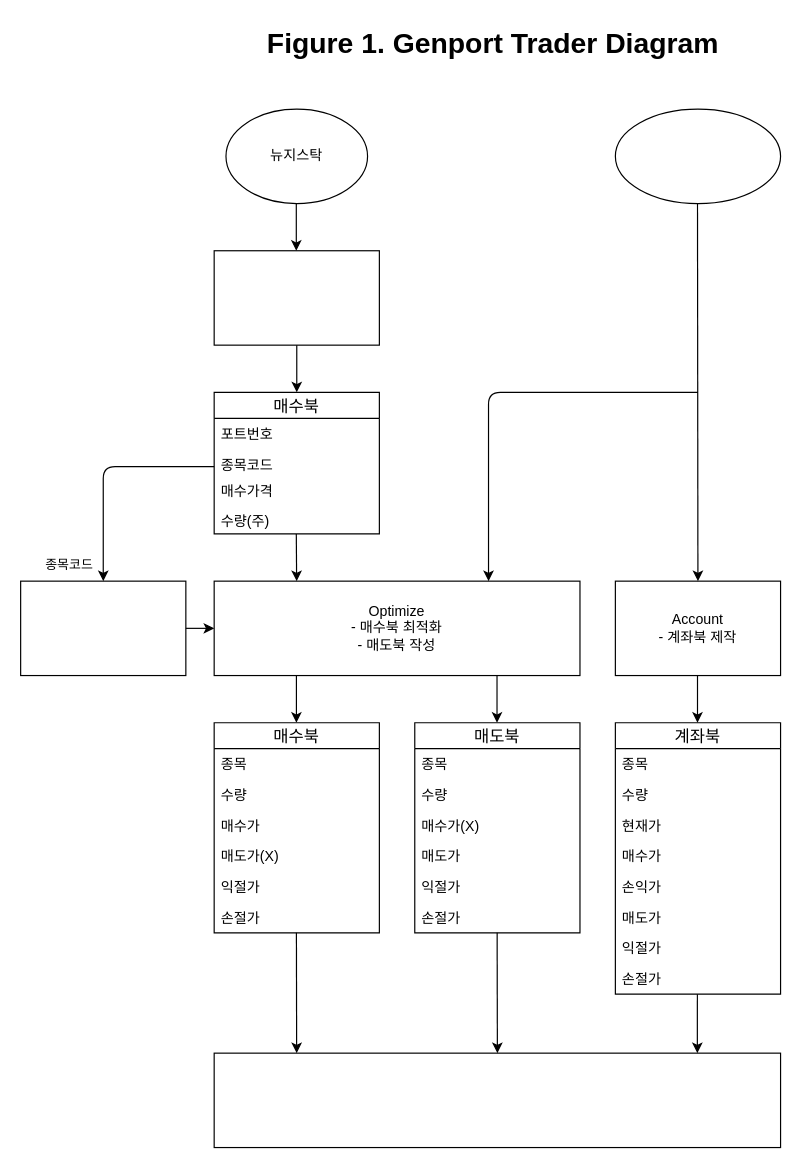
This 801x1168 diagram has some shape labels left out. Each missing label, with the centre of its shape:
Crawling - 포트에서 금일 매수종목 추출: point 296,297
Custom - 매수가 설정 - 매도가 설정: point 102,628
Server - 매수, 매도주문 집행(장전) - 계좌 상태 기반 손익절 감시: point 497,1100
증권사 중계서버: point 697,156
